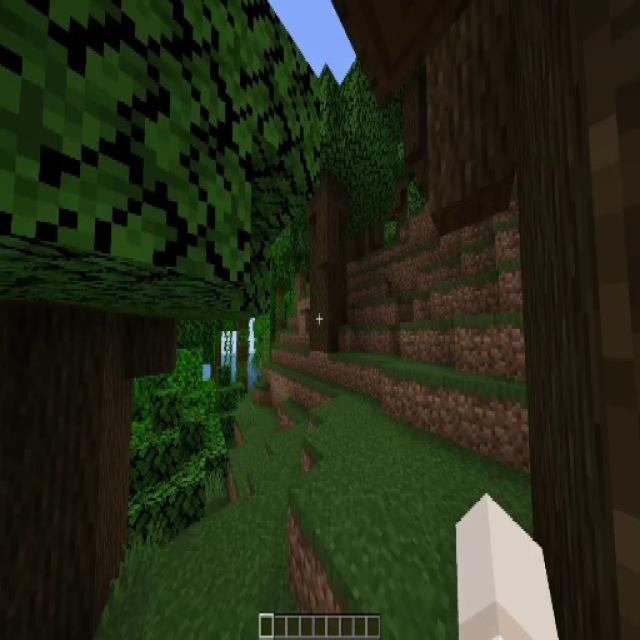dark_oak: (0, 0, 259, 627), (284, 57, 384, 353)
dark_oak_log: (512, 15, 640, 636), (0, 300, 140, 618), (312, 177, 347, 346)
jungle_log: (238, 322, 248, 389)
